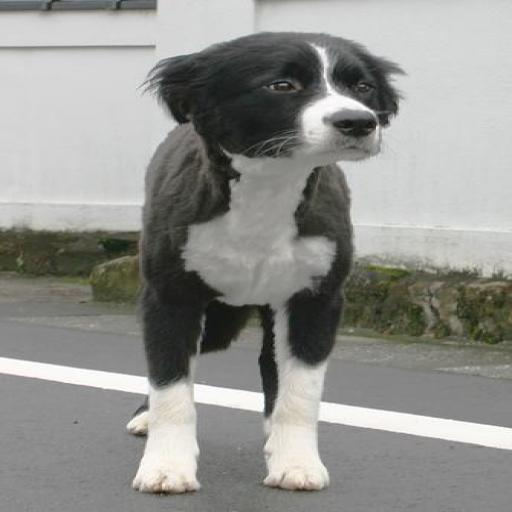dog_face: (151, 27, 410, 162)
